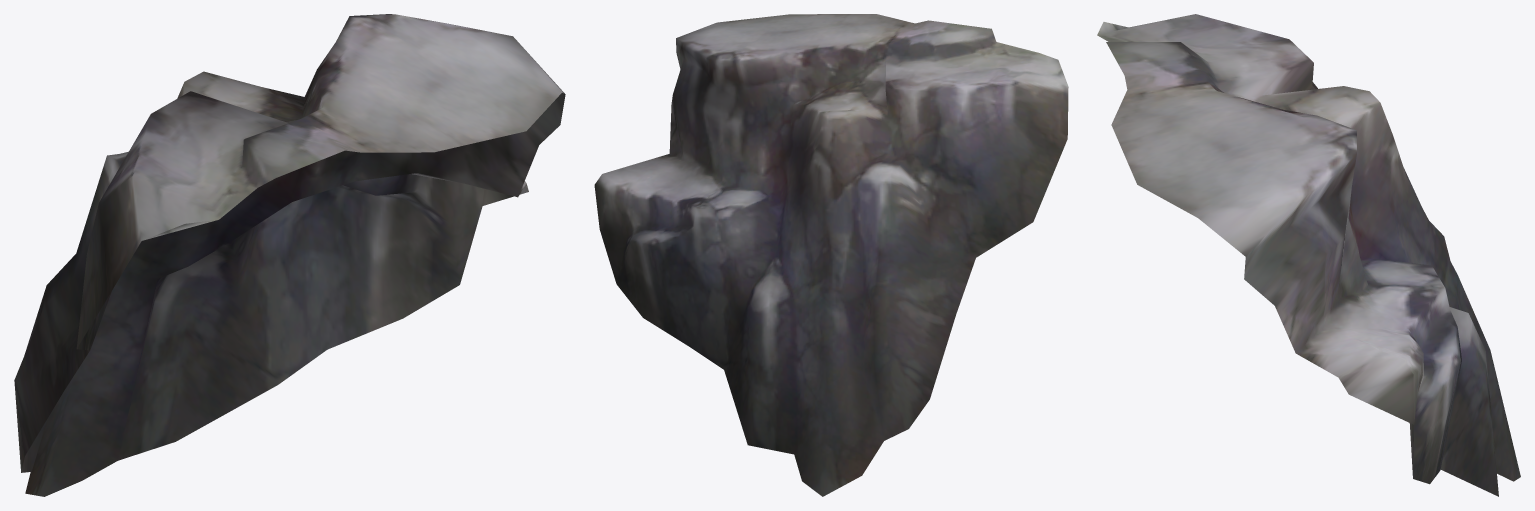
File: rzjd_shitoushan_01.FBX
3 views of the same model, side by side, from view 1: azimuth 30°, elevation 25°; view 2: azimuth 150°, elevation 25°; view 3: azimuth 270°, elevation 25° (orthographic). The views are drawn at different scales.
Visible parts, largest first — view 1: rzjd_shitoushan_01; view 2: rzjd_shitoushan_01; view 3: rzjd_shitoushan_01.
Boxes of the visible parts, x1,y1,x2,y2 form: rzjd_shitoushan_01: (14,14,565,496); rzjd_shitoushan_01: (594,14,1068,496); rzjd_shitoushan_01: (1097,14,1520,496).
Size of the model in its own units: 655 by 519 by 592.
